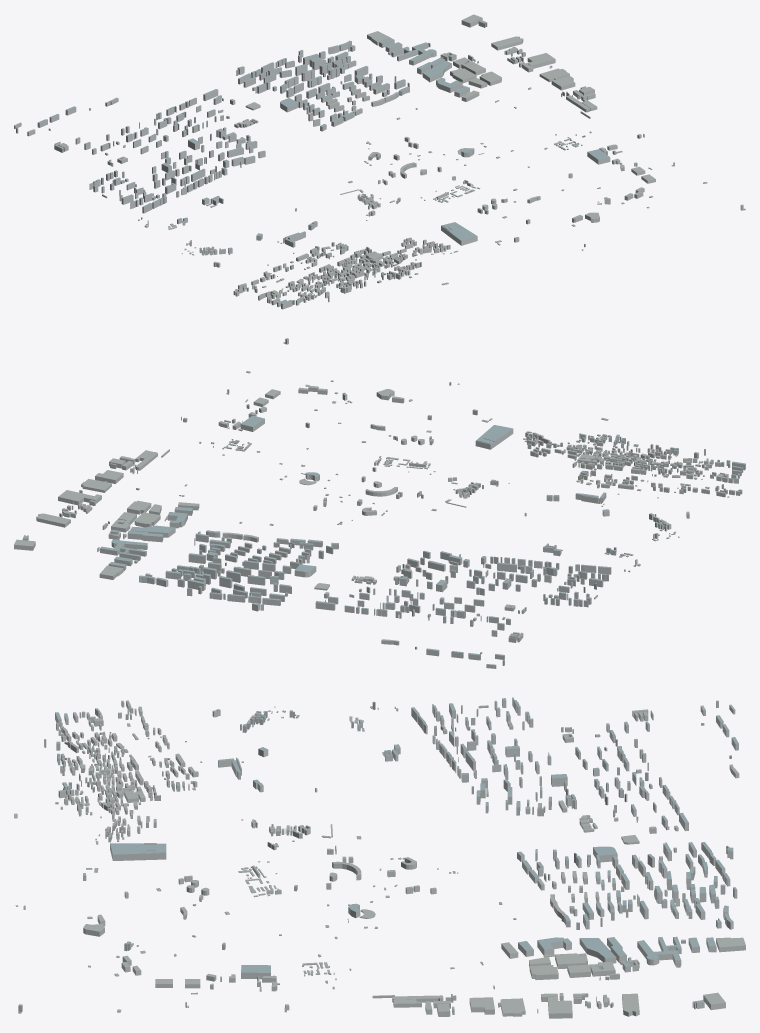
File: far.glb
3 views of the same model, one above another, from view 1: azimuth 30°, elevation 25°; view 2: azimuth 150°, elevation 25°; view 3: azimuth 270°, elevation 25° (orthographic). The views are drawn at different scales.
Bounding box in the file's own units: 2139 × 35.2 × 2111.
